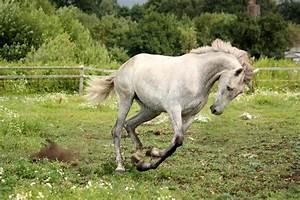horse: (83, 37, 259, 176)
